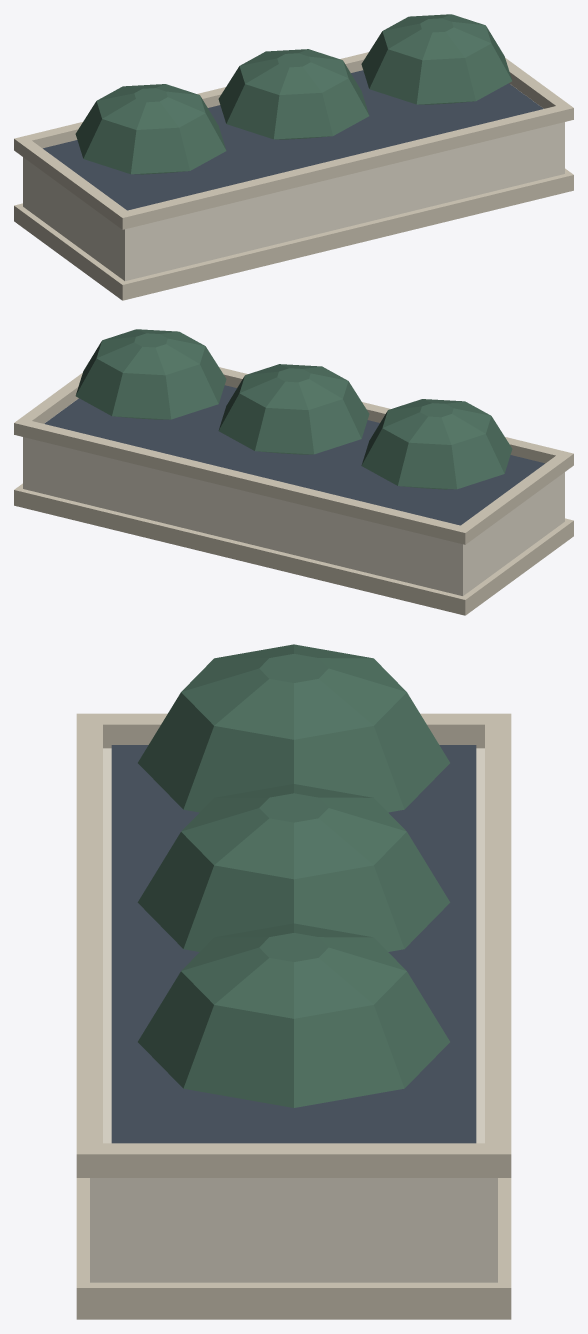
Rendered from VIC_G01_FORMAL_PLANTER_Roblox.fbx.
The picture shows the model from 3 angles, top to bottom: view 1: azimuth 30°, elevation 25°; view 2: azimuth 150°, elevation 25°; view 3: azimuth 270°, elevation 25°; orthographic projection. The views are drawn at different scales.
Visible parts, largest first — view 1: VIC_G01_FORMAL_PLANTER__Leaf, VIC_G01_FORMAL_PLANTER__Ivory, VIC_G01_FORMAL_PLANTER__Stone, VIC_G01_FORMAL_PLANTER__Ink; view 2: VIC_G01_FORMAL_PLANTER__Leaf, VIC_G01_FORMAL_PLANTER__Ivory, VIC_G01_FORMAL_PLANTER__Stone, VIC_G01_FORMAL_PLANTER__Ink; view 3: VIC_G01_FORMAL_PLANTER__Leaf, VIC_G01_FORMAL_PLANTER__Stone, VIC_G01_FORMAL_PLANTER__Ink, VIC_G01_FORMAL_PLANTER__Ivory.
Boxes of the visible parts, x1,y1,x2,y2 form: VIC_G01_FORMAL_PLANTER__Leaf: (75, 14, 512, 174); VIC_G01_FORMAL_PLANTER__Ivory: (23, 88, 564, 280); VIC_G01_FORMAL_PLANTER__Stone: (14, 52, 573, 300); VIC_G01_FORMAL_PLANTER__Ink: (43, 70, 543, 210); VIC_G01_FORMAL_PLANTER__Leaf: (75, 329, 512, 489); VIC_G01_FORMAL_PLANTER__Ivory: (23, 403, 564, 595); VIC_G01_FORMAL_PLANTER__Stone: (14, 367, 573, 615); VIC_G01_FORMAL_PLANTER__Ink: (44, 385, 544, 525); VIC_G01_FORMAL_PLANTER__Leaf: (137, 644, 450, 1107); VIC_G01_FORMAL_PLANTER__Stone: (76, 713, 511, 1319); VIC_G01_FORMAL_PLANTER__Ink: (111, 745, 476, 1143); VIC_G01_FORMAL_PLANTER__Ivory: (90, 748, 497, 1282).
Bounding box in the file's own units: 12 × 3.7 × 5.
